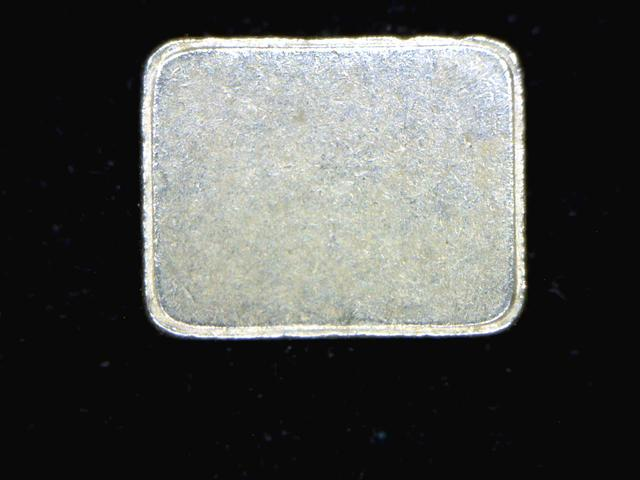nok: (129, 30, 543, 339)
